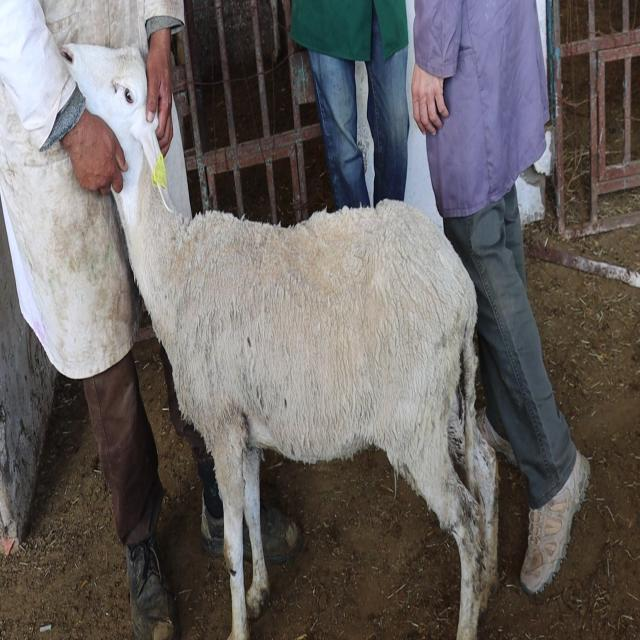Score_1: (61, 44, 498, 639)
